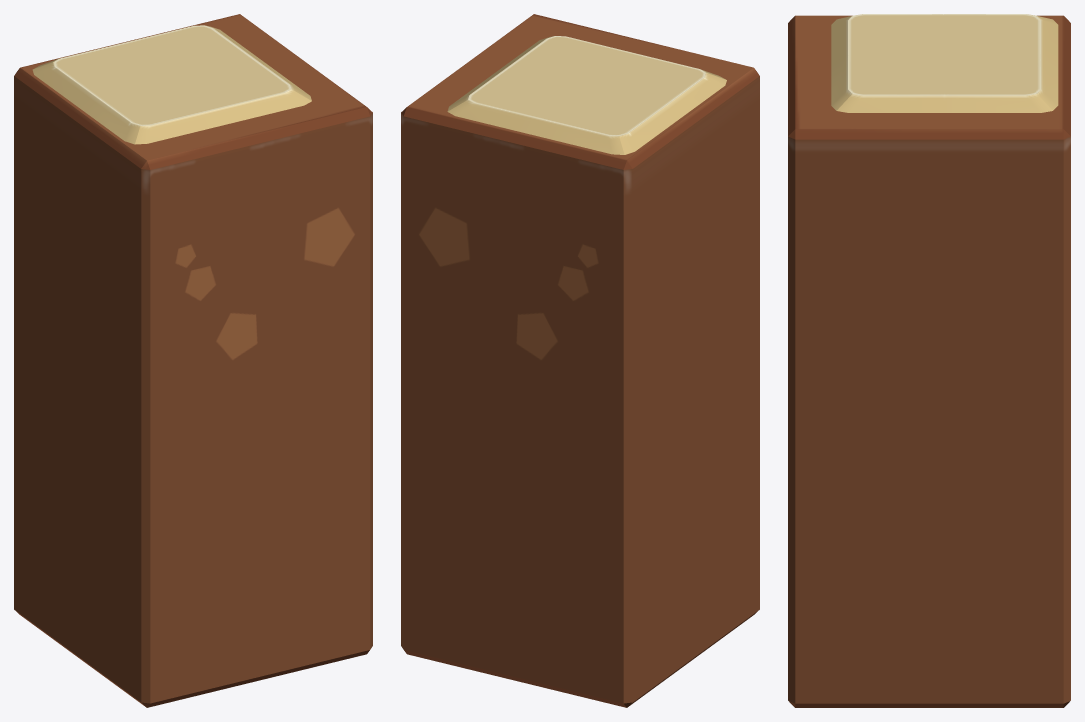
File: S1_InF_WallCorner_001.fbx
3 renders of one model, left to right at view 1: azimuth 30°, elevation 25°; view 2: azimuth 150°, elevation 25°; view 3: azimuth 270°, elevation 25°, orthographic. The views are drawn at different scales.
Visible parts, largest first — view 1: group146_pCube8; view 2: group146_pCube8; view 3: group146_pCube8.
Boxes of the visible parts, x1,y1,x2,y2 form: group146_pCube8: (14,14,372,707); group146_pCube8: (401,14,759,707); group146_pCube8: (788,14,1070,707).
Size of the model in its own units: 0.8889 by 2.04 by 0.8889.
